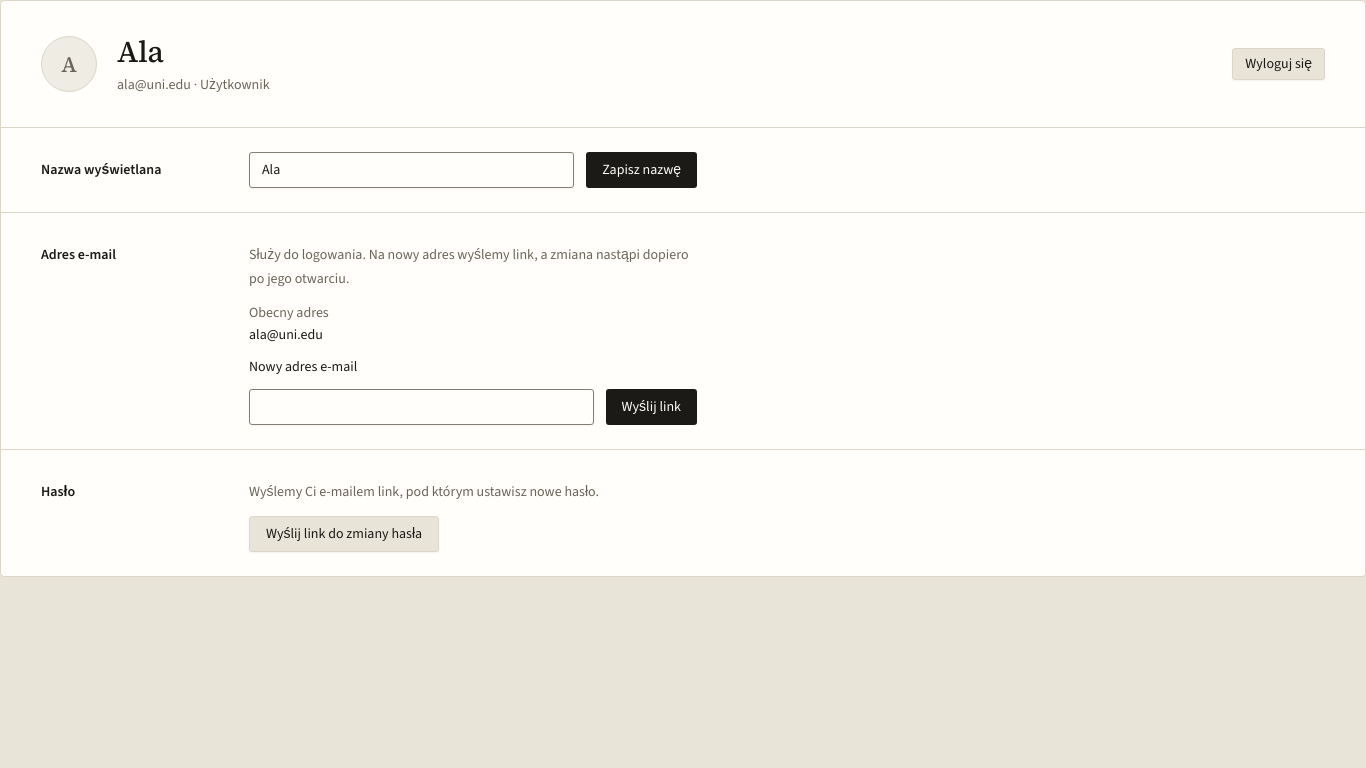
Test: AccountSettings › saves a new name and refreshes the session
This screenshot has width=1366, height=768.
Replace the text in the field named "Nazwa" with "Ala Nowak". click: coordinates (412, 170)
box: [249, 152, 574, 188]
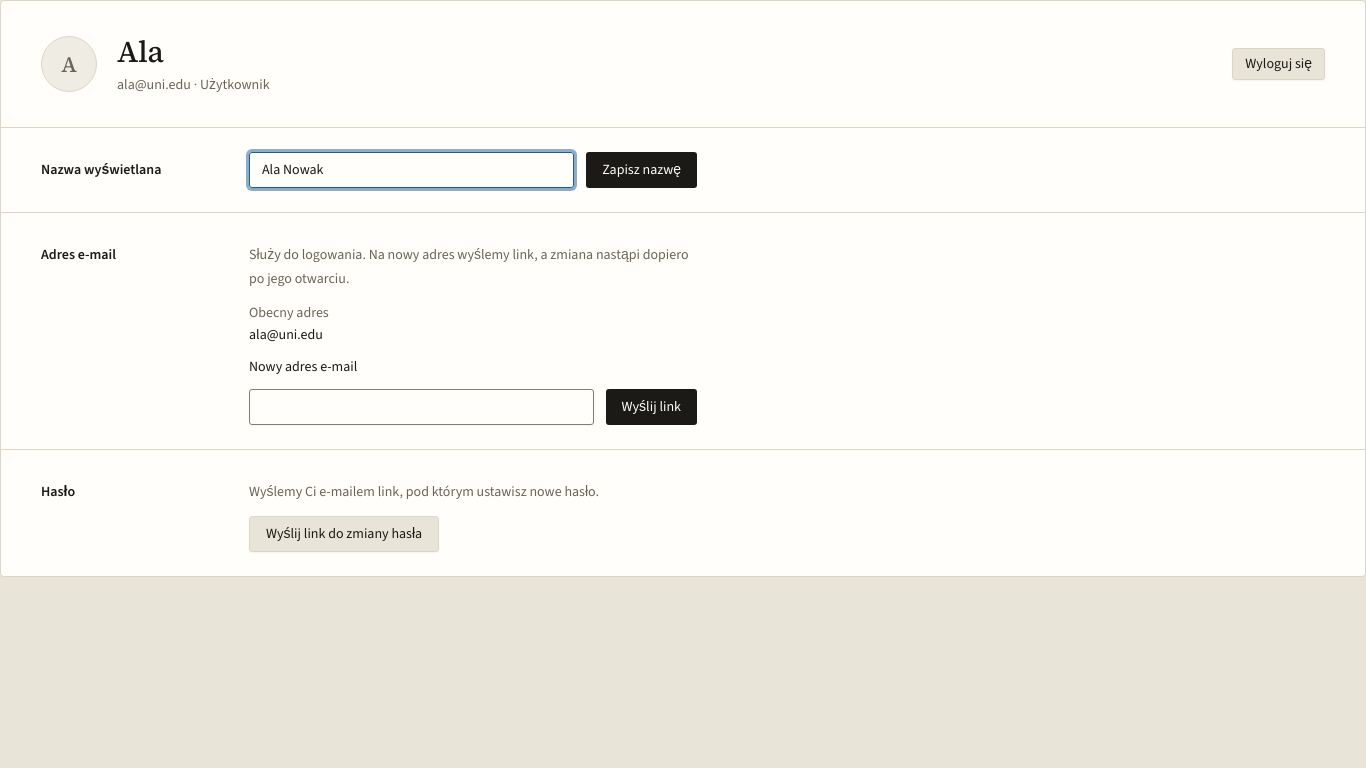
Click the button "Zapisz nazwę". click: coordinates (642, 170)
box: [586, 152, 697, 188]
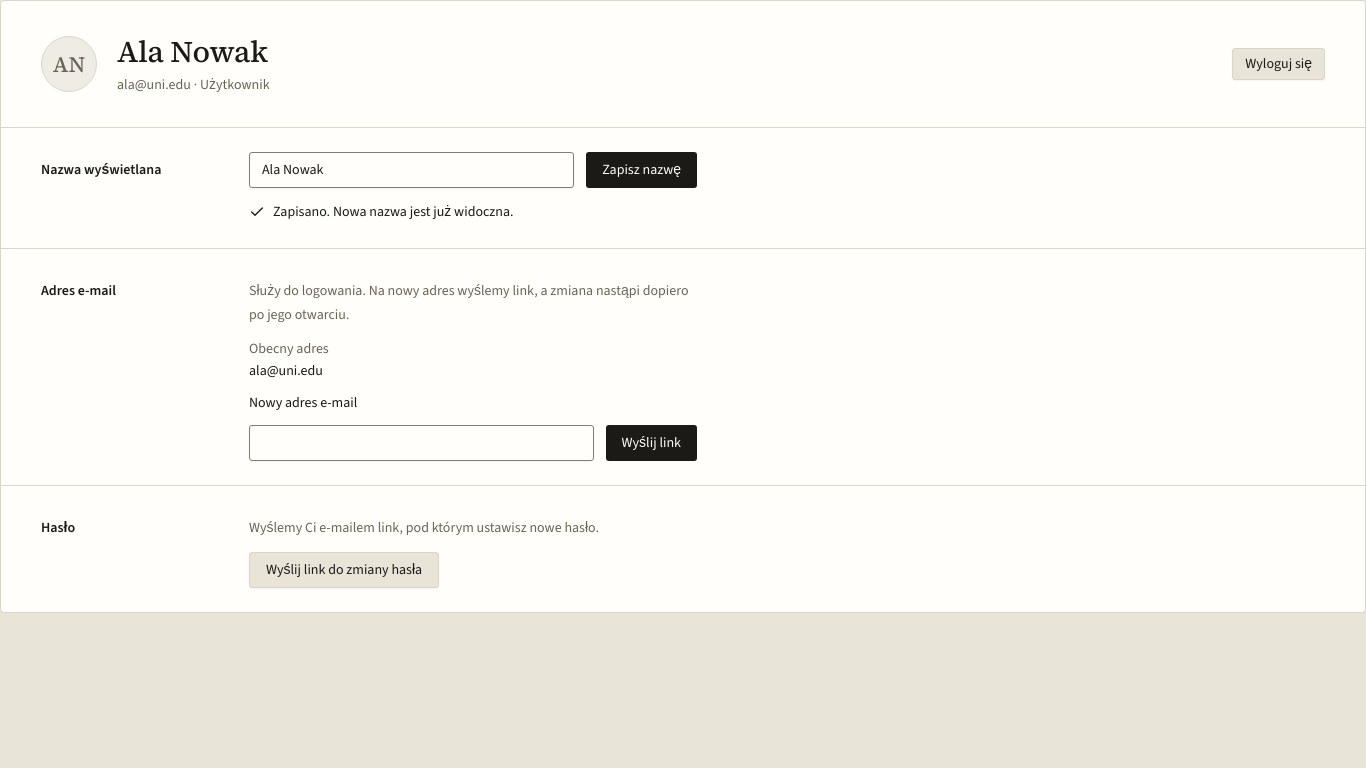
Expected: the text "Zapisano. Nowa nazwa jest już widoczna." is shown, [273, 200, 514, 224]
Expected: the heading "Ala Nowak" is shown, [117, 31, 268, 72]
